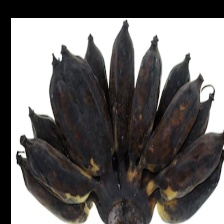banana: (48, 16, 217, 186)
